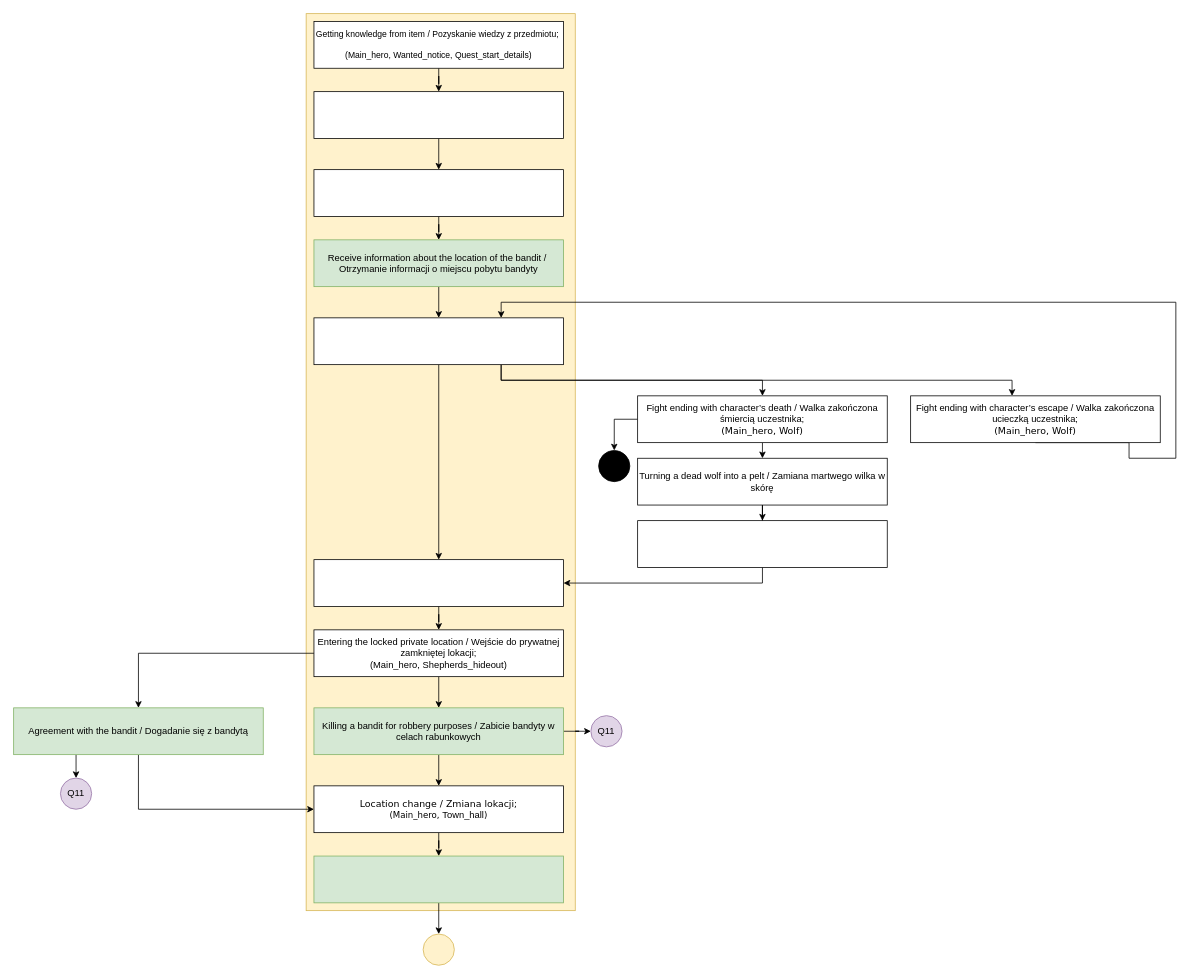
Image size: 1196x979. Some labels were removed from this diagram. Here are the shapes that lost their labels. From the top down, the centre of each, then its label:
the point at 438,114: Picking item up / Podniesienie przedmiotu; (Main_hero, Wanted_notice)
the point at 438,192: Location change / Zmiana lokacji; (Main_hero, Inn)
the point at 438,341: Location change / Zmiana lokacji ; (Main_hero, Field)
the point at 762,543: Picking item up / Podniesienie przedmiotu; (Main_hero, Wolf_pelt )
the point at 438,582: Picking item up / Podniesienie przedmiotu; (Main_hero, Keys)
the point at 438,879: Receiving the award / Otrzymanie nagrody
